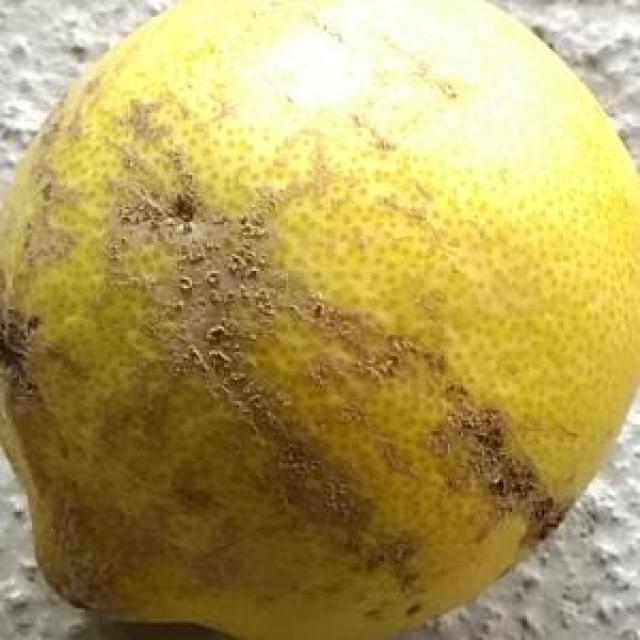lemon: (3, 2, 639, 640)
